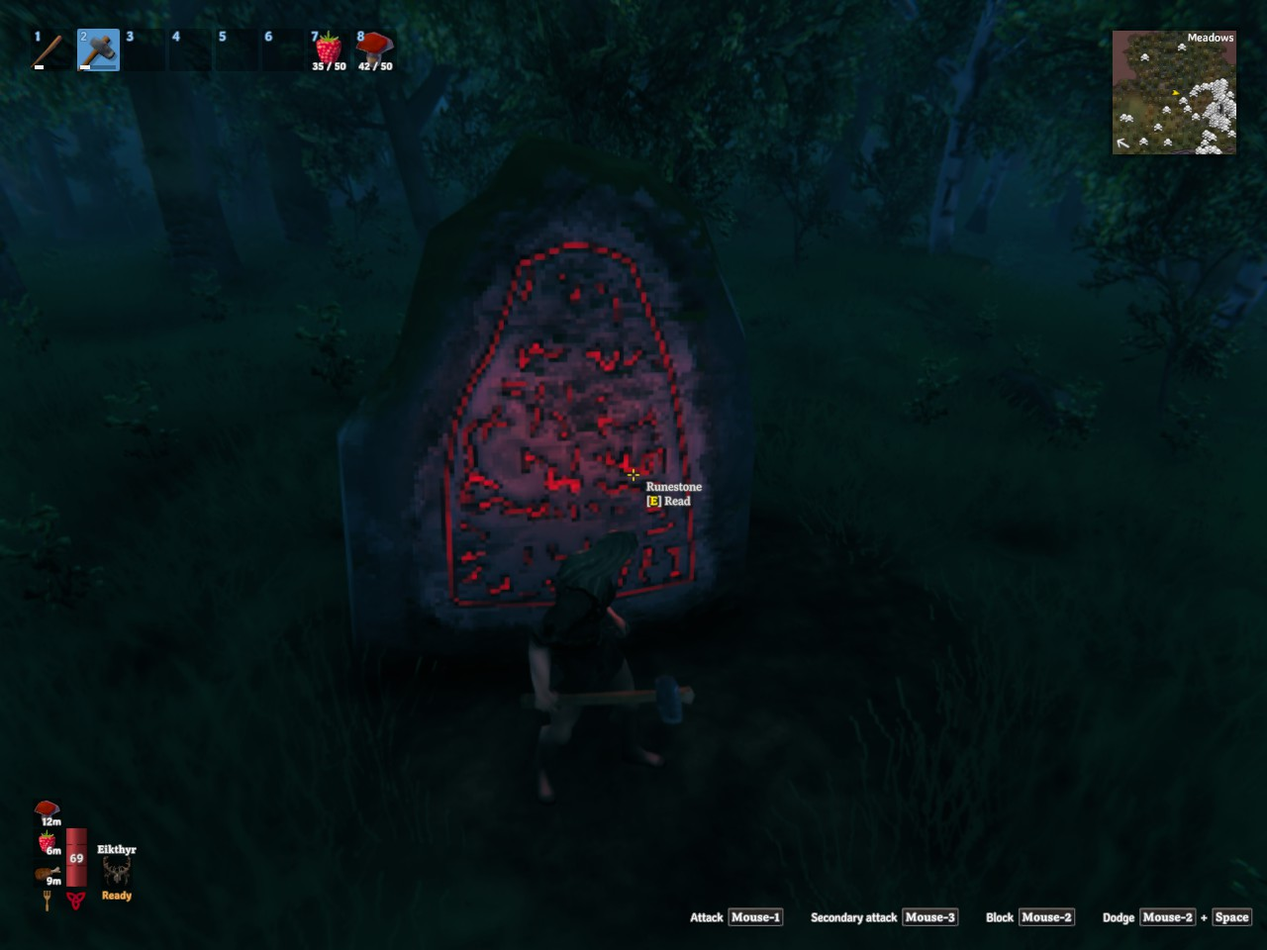Food Indicator: (36, 797, 63, 891)
Health Bar: (63, 820, 90, 891)
Hotbar: (25, 21, 398, 78)
Rune Stone: (340, 140, 754, 653)
Stamina Bar: (591, 844, 708, 862)
